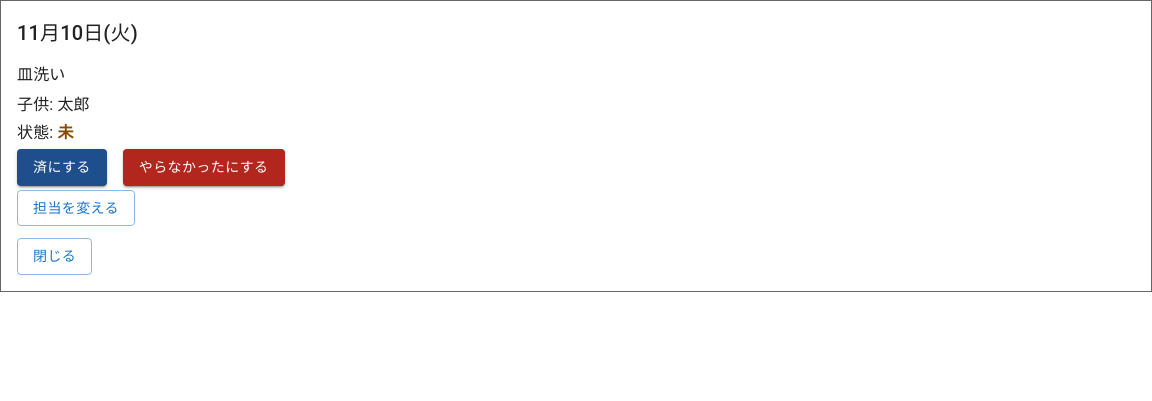
DayDetail › 担当がもう「未」でなく変更が断られたら（409）、理由の文言を出して画面を読み直す
Click the button with test id "change-duty-button". click: (76,208)
box: [17,190,135,226]
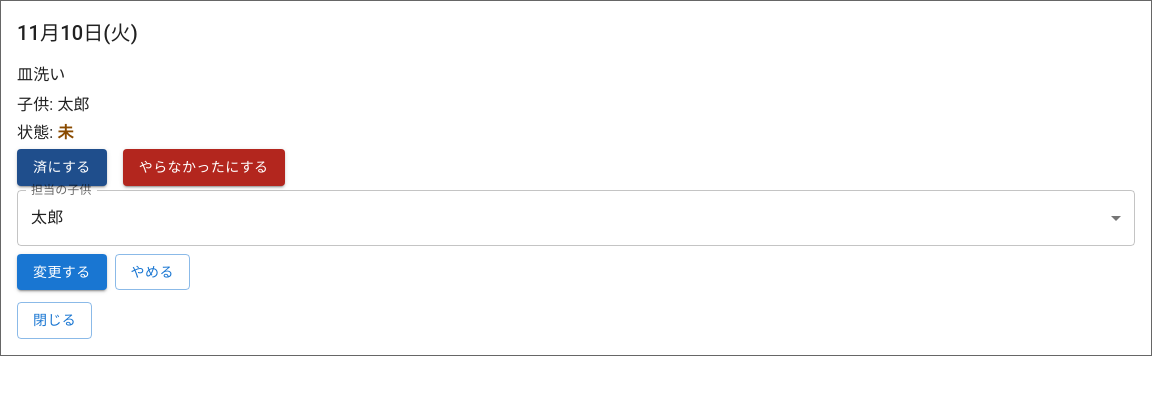
Select "次郎" in the dropdown with test id "change-child-select". click: (576,218)
box: [17,190,1135,246]
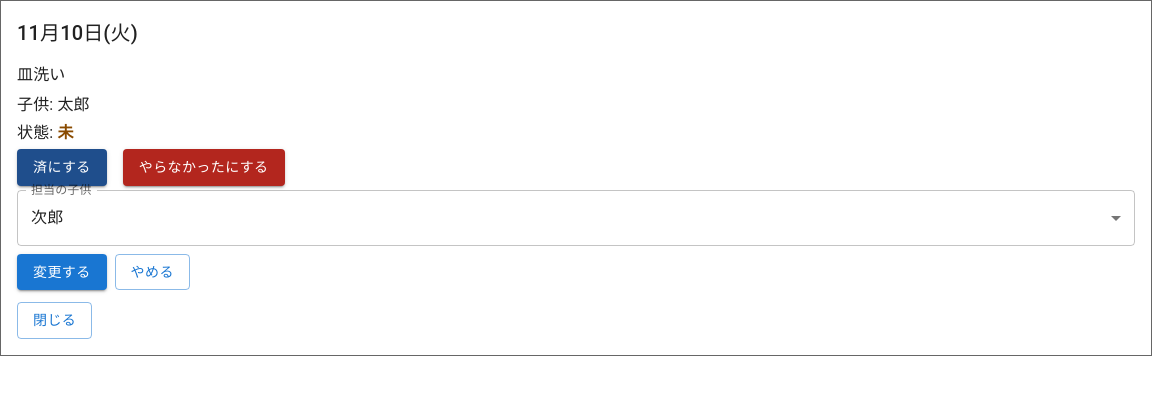
Click the button with test id "change-child-confirm-button". click: (62,272)
box: [17,254,107,290]
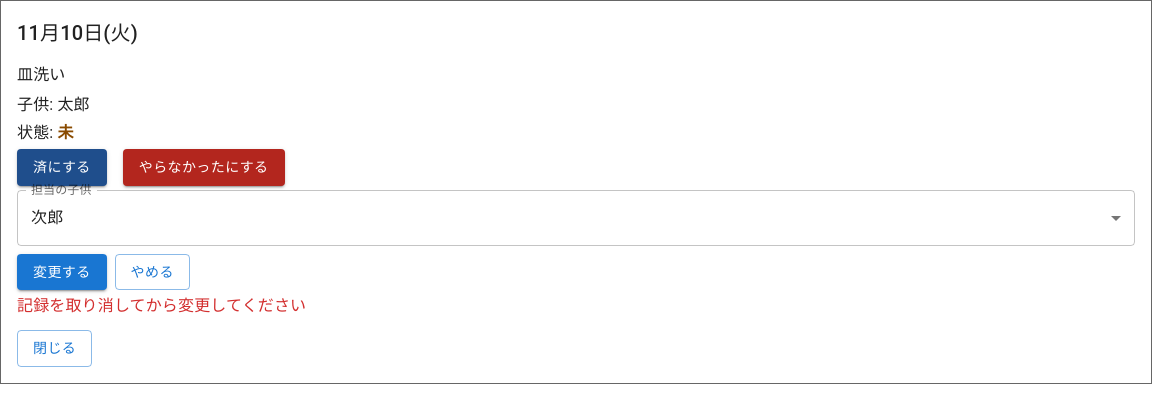
Now the button with test id "change-child-confirm-button" is enabled, box [17,254,107,290]
Now the message with test id "change-error" reads "記録を取り消してから変更してください", box [17,296,306,315]
